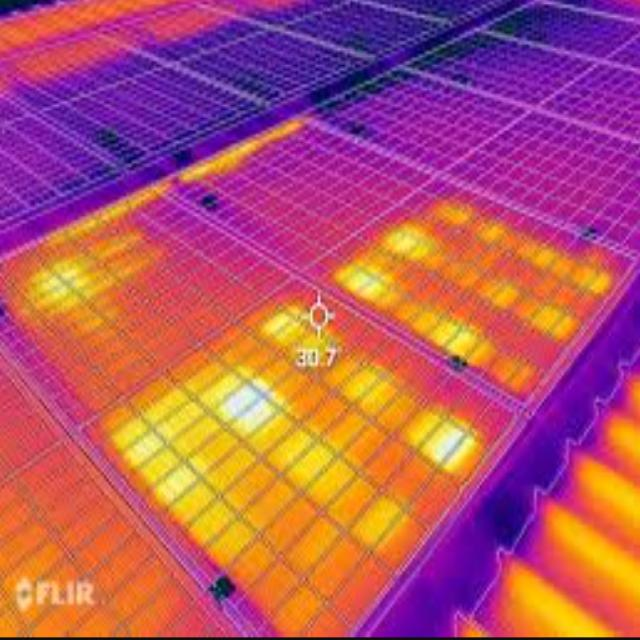hotspot group: (111, 291, 492, 582), (330, 184, 621, 398), (16, 211, 174, 338), (174, 116, 321, 187)
panel with hotspots: (0, 184, 538, 639), (159, 112, 640, 419)
